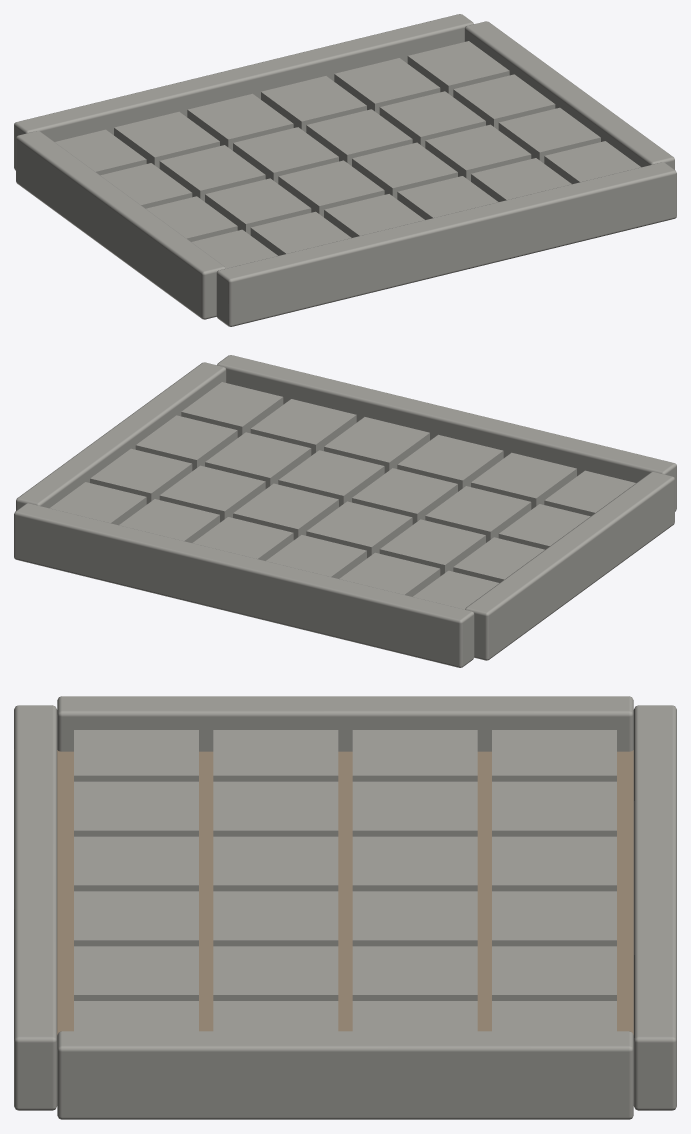
File: onggi-terrace.glb
3 renders of one model, top to bottom at view 1: azimuth 30°, elevation 25°; view 2: azimuth 150°, elevation 25°; view 3: azimuth 270°, elevation 25°, orthographic. The views are drawn at different scales.
Parts seen in each view (by area): view 1: jangdokdae-terrace_0; view 2: jangdokdae-terrace_0; view 3: jangdokdae-terrace_0.
Part boxes in pixels (box(x1,y1,x2,y2)): jangdokdae-terrace_0: box(14, 14, 676, 326); jangdokdae-terrace_0: box(14, 355, 676, 667); jangdokdae-terrace_0: box(14, 696, 676, 1119).
Bounding box in the file's own units: 3.48 × 0.34 × 2.76.
